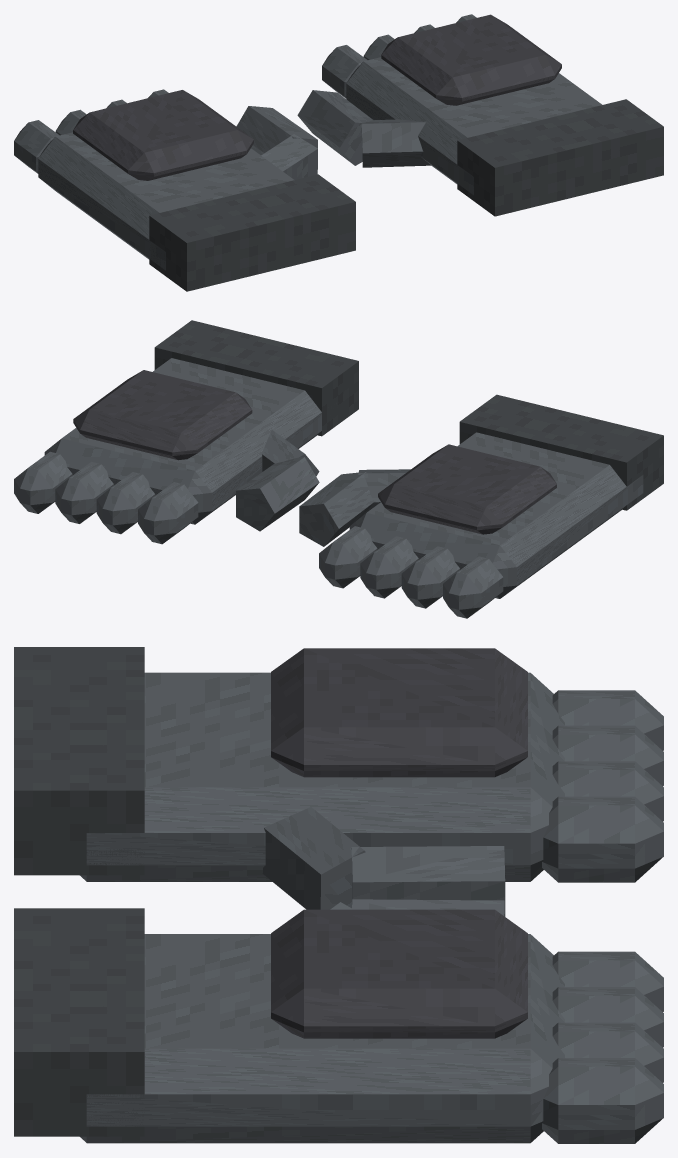
File: gloves_airsoft.glb
3 renders of one model, top to bottom at view 1: azimuth 30°, elevation 25°; view 2: azimuth 150°, elevation 25°; view 3: azimuth 270°, elevation 25°, orthographic. The views are drawn at different scales.
Parts seen in each view (by area): view 1: block_adjustable cuff (×2), block_glove palm (×2), block_protective back pad (×2), block_glove thumb 1 (×2), block_glove thumb 0 (×2), block_glove finger (×2); view 2: block_glove palm (×2), block_protective back pad (×2), block_glove finger (×8), block_adjustable cuff (×2), block_glove thumb 1 (×2), block_glove thumb 0 (×2); view 3: block_glove palm (×2), block_protective back pad (×2), block_adjustable cuff (×2), block_glove finger (×8), block_glove thumb 1 (×2), block_glove thumb 0.
Part boxes in pixels (box(x1,y1,x2,y2)): block_adjustable cuff (×2): box(149, 99, 663, 291); block_glove palm (×2): box(38, 57, 602, 270); block_protective back pad (×2): box(73, 14, 561, 180); block_glove thumb 1 (×2): box(236, 90, 373, 165); block_glove thumb 0 (×2): box(261, 119, 431, 179); block_glove finger (×2): box(14, 45, 367, 173); block_glove palm (×2): box(44, 358, 643, 598); block_protective back pad (×2): box(73, 370, 556, 534); block_glove finger (×8): box(14, 451, 503, 618); block_adjustable cuff (×2): box(154, 320, 663, 510); block_glove thumb 1 (×2): box(236, 457, 373, 546); block_glove thumb 0 (×2): box(261, 430, 410, 511); block_glove palm (×2): box(80, 672, 564, 1143); block_protective back pad (×2): box(271, 648, 527, 1038); block_adjustable cuff (×2): box(14, 647, 144, 1136); block_glove finger (×8): box(542, 690, 663, 1143); block_glove thumb 1 (×2): box(351, 846, 505, 916); block_glove thumb 0: box(262, 807, 365, 909).
Size of the model in its own units: 0.2075 by 0.0333 by 0.1405.
1 material, 1 textured.
